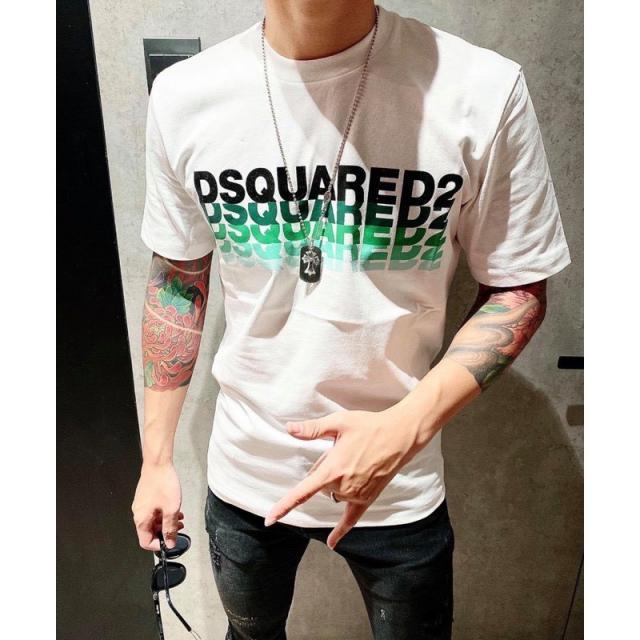Shirt: (137, 5, 574, 533)
